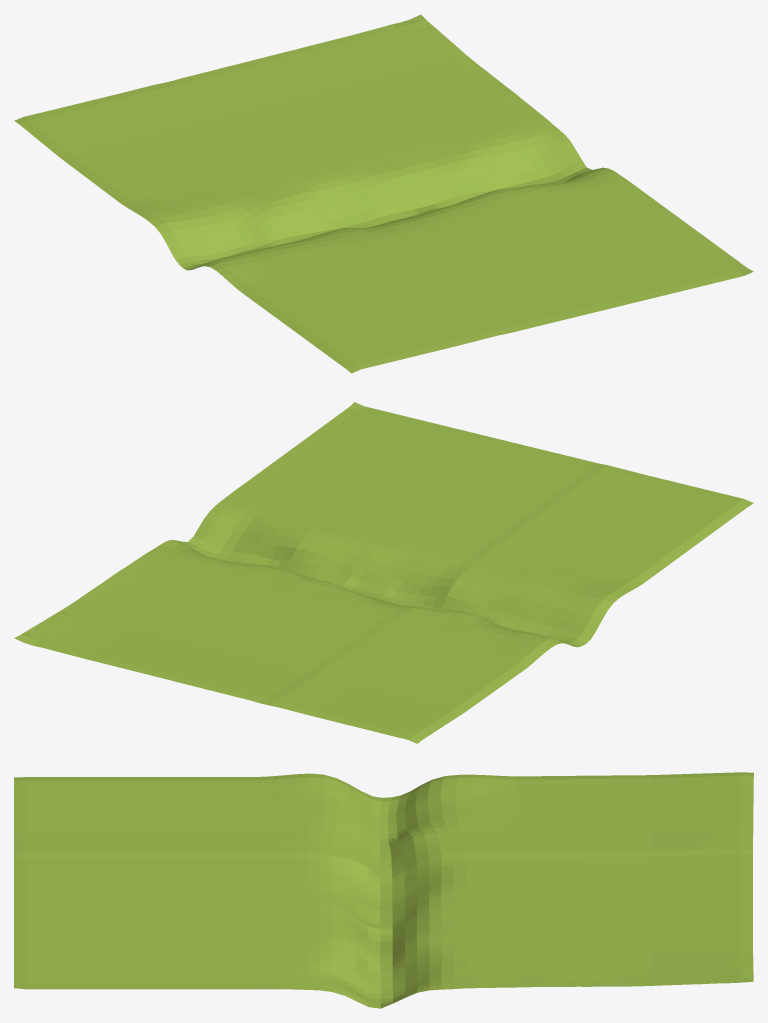
Rendered from Ground arena.fbx.
3 views of the same model, one above another, from view 1: azimuth 30°, elevation 25°; view 2: azimuth 150°, elevation 25°; view 3: azimuth 270°, elevation 25° (orthographic). The views are drawn at different scales.
Parts seen in each view (by area): view 1: Ground - Arena; view 2: Ground - Arena; view 3: Ground - Arena.
Boxes of the visible parts, bbox=[...] form: Ground - Arena: bbox=[14, 14, 753, 373]; Ground - Arena: bbox=[14, 402, 753, 743]; Ground - Arena: bbox=[14, 772, 753, 1008].
Bounding box in the file's own units: 6673 × 524 × 9600.
